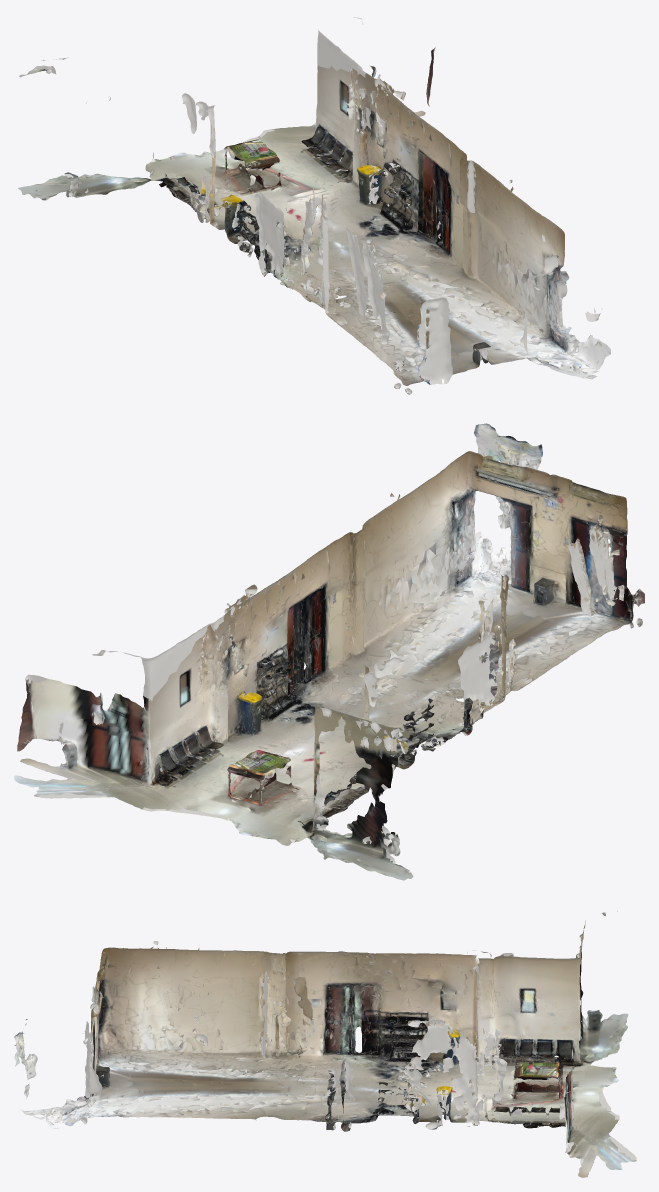
Rendered from MAP_3GSHO4CCQ2OB.glb.
3 views of the same model, one above another, from view 1: azimuth 30°, elevation 25°; view 2: azimuth 150°, elevation 25°; view 3: azimuth 270°, elevation 25° (orthographic). The views are drawn at different scales.
Parts seen in each view (by area): view 1: TexturedMesh.obj; view 2: TexturedMesh.obj; view 3: TexturedMesh.obj.
Part boxes in pixels (x1,y1,x2,y2): TexturedMesh.obj: (18,17,610,394); TexturedMesh.obj: (14,423,644,880); TexturedMesh.obj: (14,911,636,1177).
Size of the model in its own units: 11.14 by 3.92 by 17.77.
Materials: 1 (1 with a texture image).
